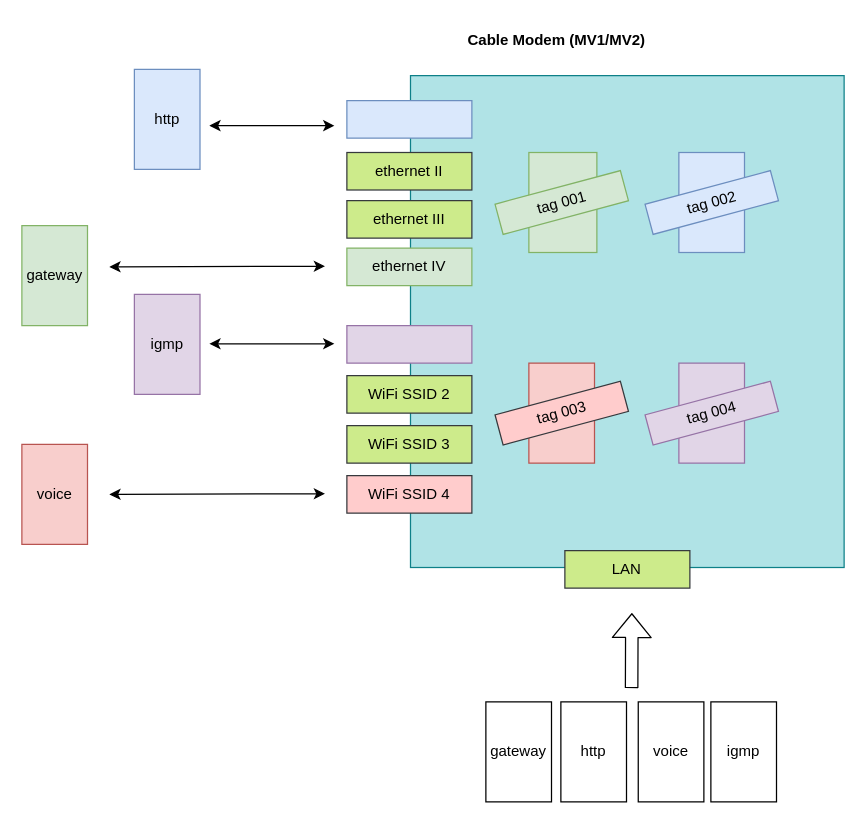
Image size: 866x824. Some labels were removed from this diagram. Here are the shapes that lost their labels. From the top down, the centre of each, then its label:
At point (409, 118): "ethernet I".
At point (409, 343): "WiFi SSID1".
